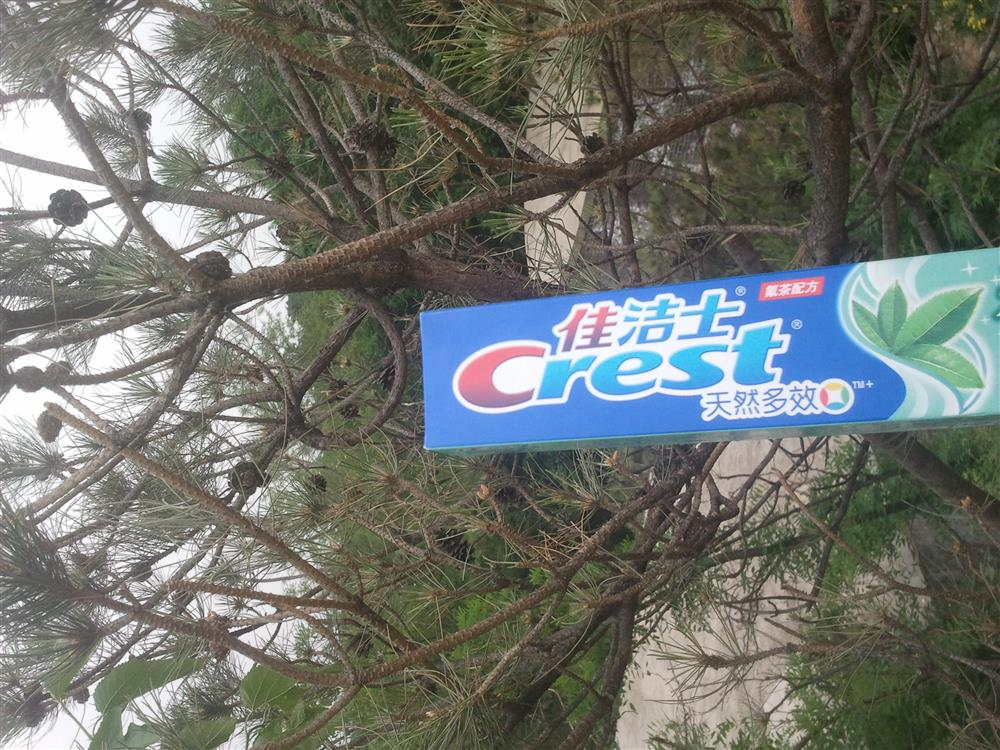crest: (411, 260, 990, 440)
